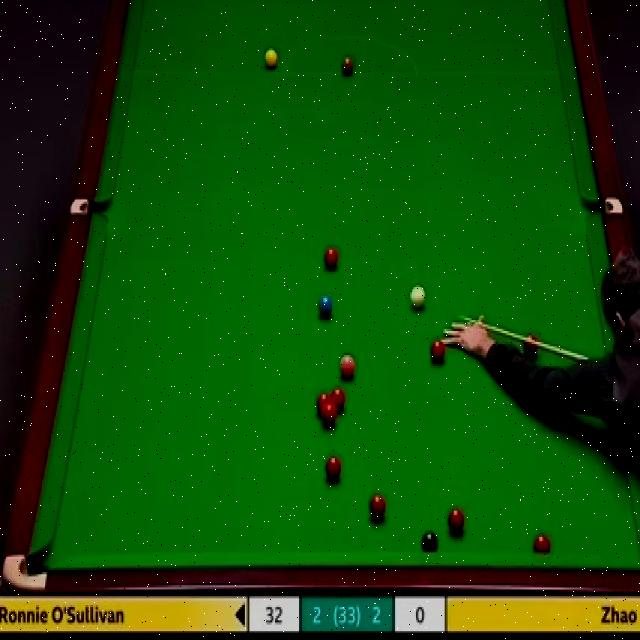black-ball: (418, 530, 438, 555)
blue-ball: (316, 294, 333, 321)
brown-ball: (339, 53, 354, 78)
pink-ball: (338, 353, 356, 381)
red-ball: (429, 336, 448, 367), (366, 493, 386, 522), (324, 455, 342, 486), (446, 508, 464, 536), (323, 247, 341, 273), (522, 332, 539, 359), (331, 388, 346, 414), (534, 532, 551, 554), (316, 392, 331, 414), (322, 406, 337, 427)
white-ball: (408, 282, 428, 313)
yellow-ball: (262, 47, 278, 69)
